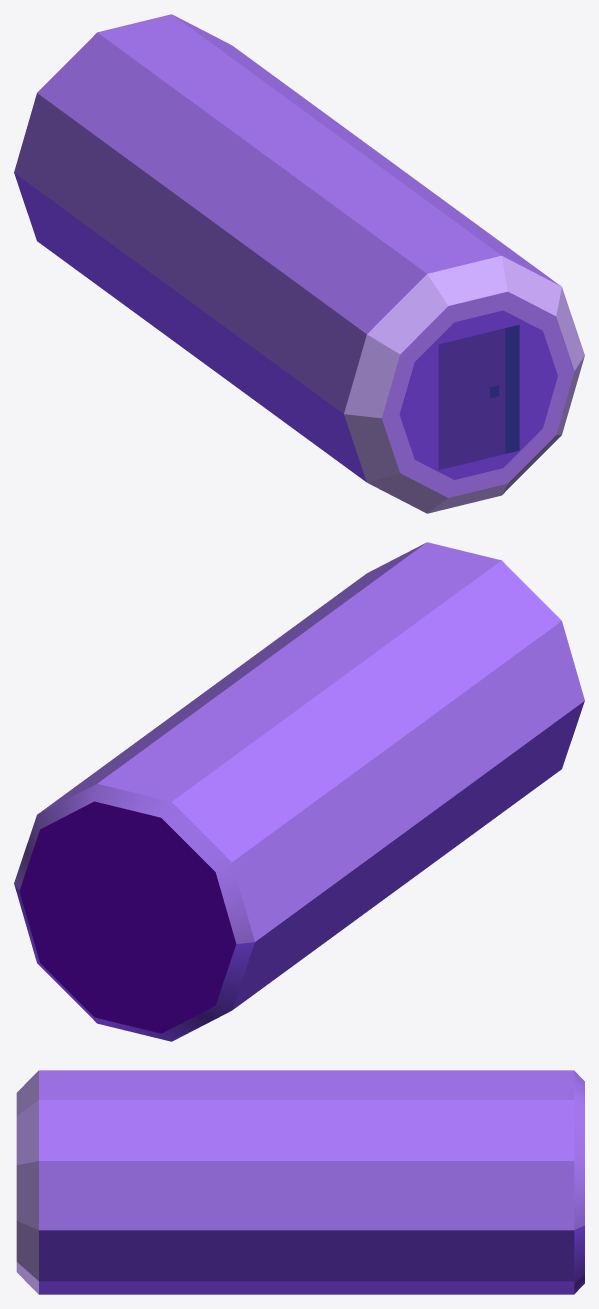
File: Building_014_c.fbx
The picture shows the model from 3 angles, top to bottom: view 1: azimuth 30°, elevation 25°; view 2: azimuth 150°, elevation 25°; view 3: azimuth 270°, elevation 25°; orthographic projection. The views are drawn at different scales.
Visible parts, largest first — view 1: Building_014_c; view 2: Building_014_c; view 3: Building_014_c.
Part boxes in pixels (box(x1,y1,x2,y2)): Building_014_c: box(14, 14, 584, 513); Building_014_c: box(14, 542, 584, 1041); Building_014_c: box(16, 1070, 584, 1294).
Size of the model in its own units: 5.7 by 5.42 by 14.41.
